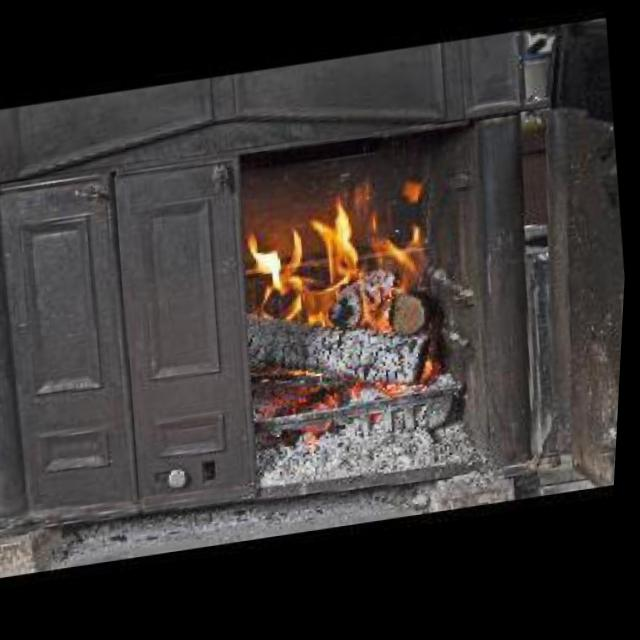Fire: (242, 167, 455, 348)
